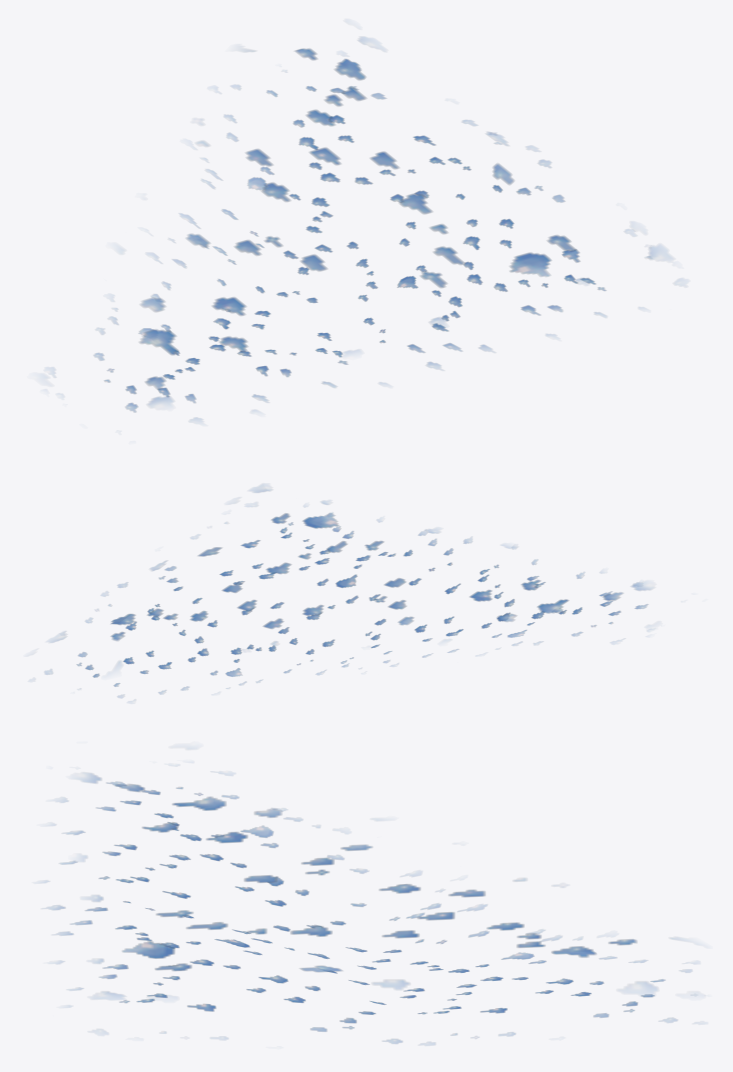
3 views of the same model, one above another, from view 1: azimuth 30°, elevation 25°; view 2: azimuth 150°, elevation 25°; view 3: azimuth 270°, elevation 25° (orthographic). The views are drawn at different scales.
Parts seen in each view (by area): view 1: 26784; view 2: 26784; view 3: 26784.
Boxes of the visible parts, box(x1,y1,x2,y2) form: 26784: box(40, 21, 687, 423); 26784: box(30, 483, 658, 702); 26784: box(36, 746, 705, 1045).
Bounding box in the file's own units: 1.69 × 0.2014 × 1.64.
Materials: 1 (1 with a texture image).
